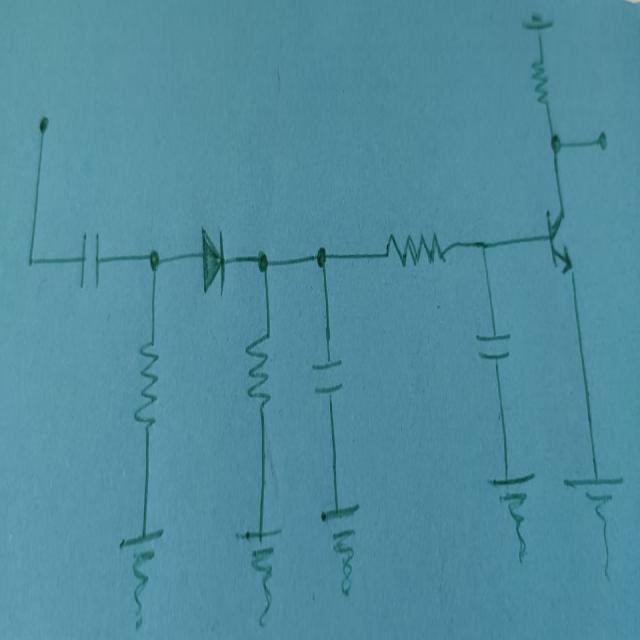capacitor: (311, 350, 343, 400), (475, 321, 512, 362), (78, 231, 101, 289)
diode: (198, 213, 228, 297)
ground: (563, 458, 625, 587), (233, 518, 283, 632), (118, 518, 164, 634), (486, 460, 536, 565), (318, 491, 362, 601)
junction: (144, 243, 162, 279), (548, 125, 564, 162), (255, 248, 272, 278), (313, 241, 329, 271), (24, 243, 38, 276), (475, 230, 489, 262)
resistor: (384, 229, 447, 269), (243, 324, 270, 416), (133, 333, 159, 427), (529, 52, 551, 111)
source: (520, 8, 554, 30)
terminal: (594, 126, 610, 153), (37, 110, 49, 138)
transistor: (543, 200, 576, 276)
